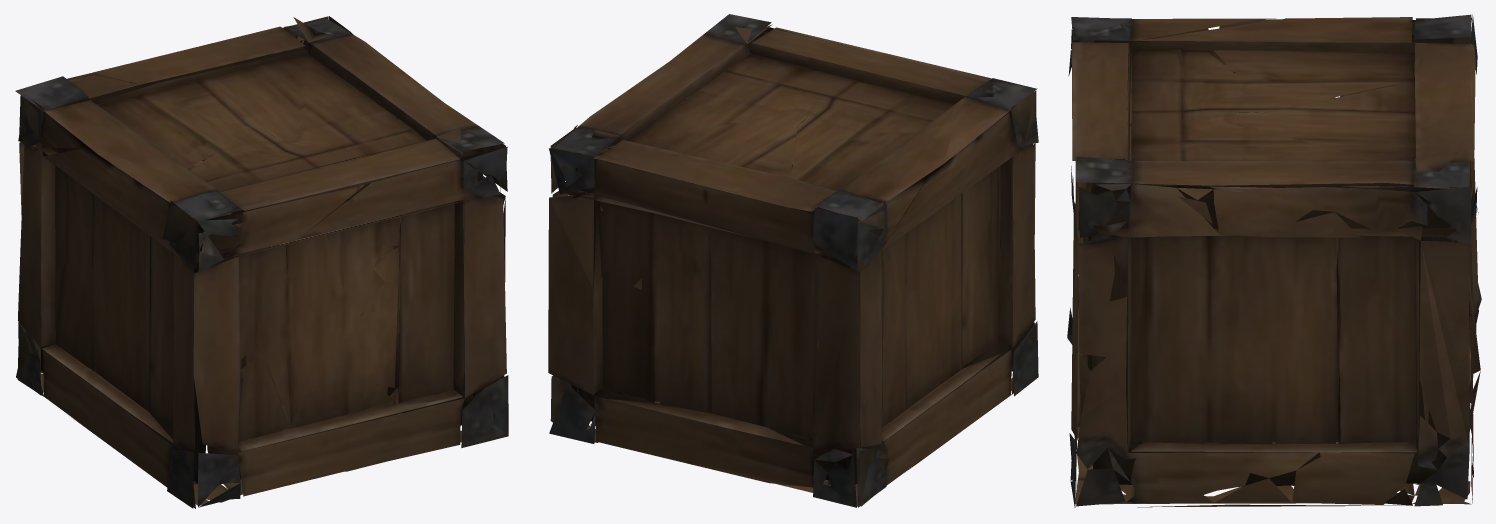
Rendered from pro_supply_crate.glb.
The picture shows the model from 3 angles, left to right: view 1: azimuth 30°, elevation 25°; view 2: azimuth 150°, elevation 25°; view 3: azimuth 270°, elevation 25°; orthographic projection. The views are drawn at different scales.
Visible parts, largest first — view 1: MetricPlacement; view 2: MetricPlacement; view 3: MetricPlacement.
Boxes of the visible parts, x1=… form: MetricPlacement: x1=15, y1=16, x2=508, y2=508; MetricPlacement: x1=548, y1=14, x2=1038, y2=507; MetricPlacement: x1=1067, y1=14, x2=1481, y2=507.
Size of the model in its own units: 0.65 by 0.5684 by 0.6331.
1 material, 1 textured.
